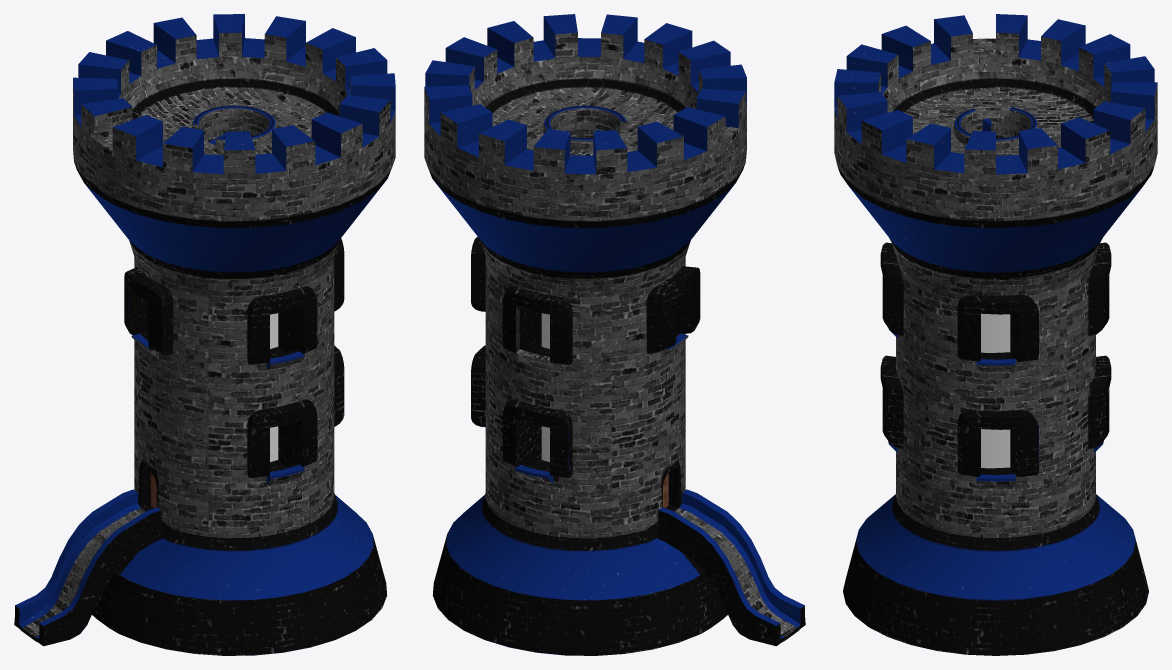
The model's file is TowerBlue8.fbx.
3 renders of one model, left to right at view 1: azimuth 30°, elevation 25°; view 2: azimuth 150°, elevation 25°; view 3: azimuth 270°, elevation 25°, orthographic.
Visible parts, largest first — view 1: Circle; view 2: Circle; view 3: Circle.
Part boxes in pixels (x1=…): Circle: x1=14, y1=14, x2=395, y2=655; Circle: x1=424, y1=14, x2=805, y2=655; Circle: x1=834, y1=14, x2=1157, y2=655.
Size of the model in its own units: 285 by 352 by 495.
3 materials, 2 textured.
